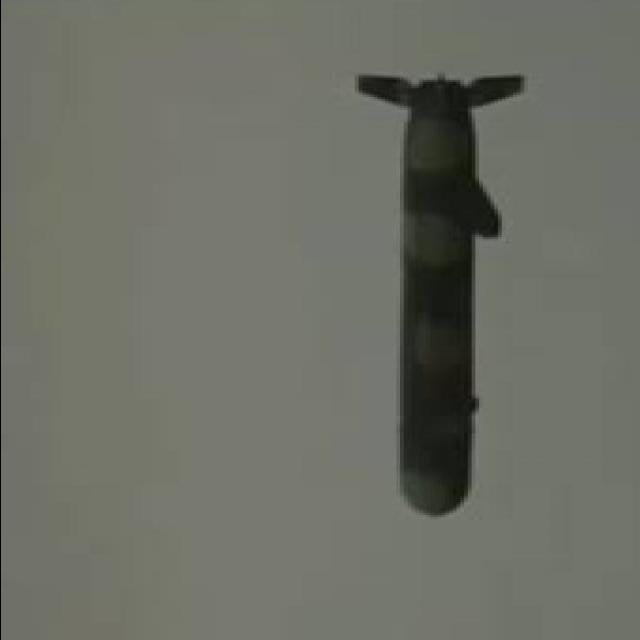missile: (352, 63, 537, 523)
